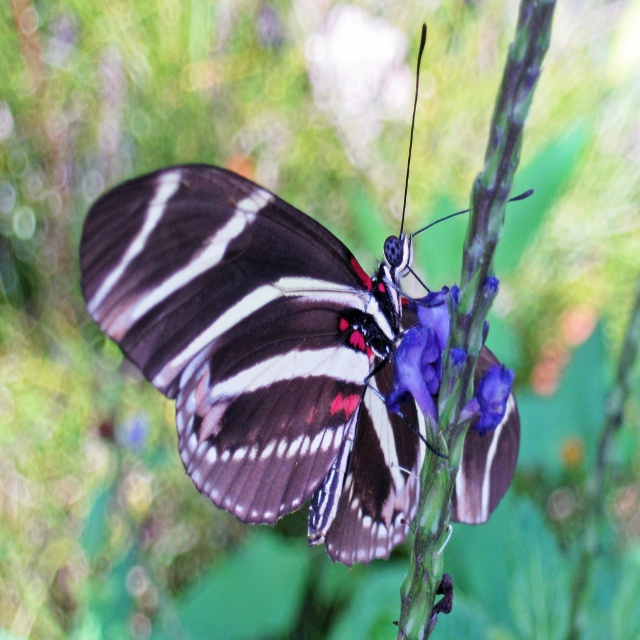Butterfly: (86, 67, 508, 570)
